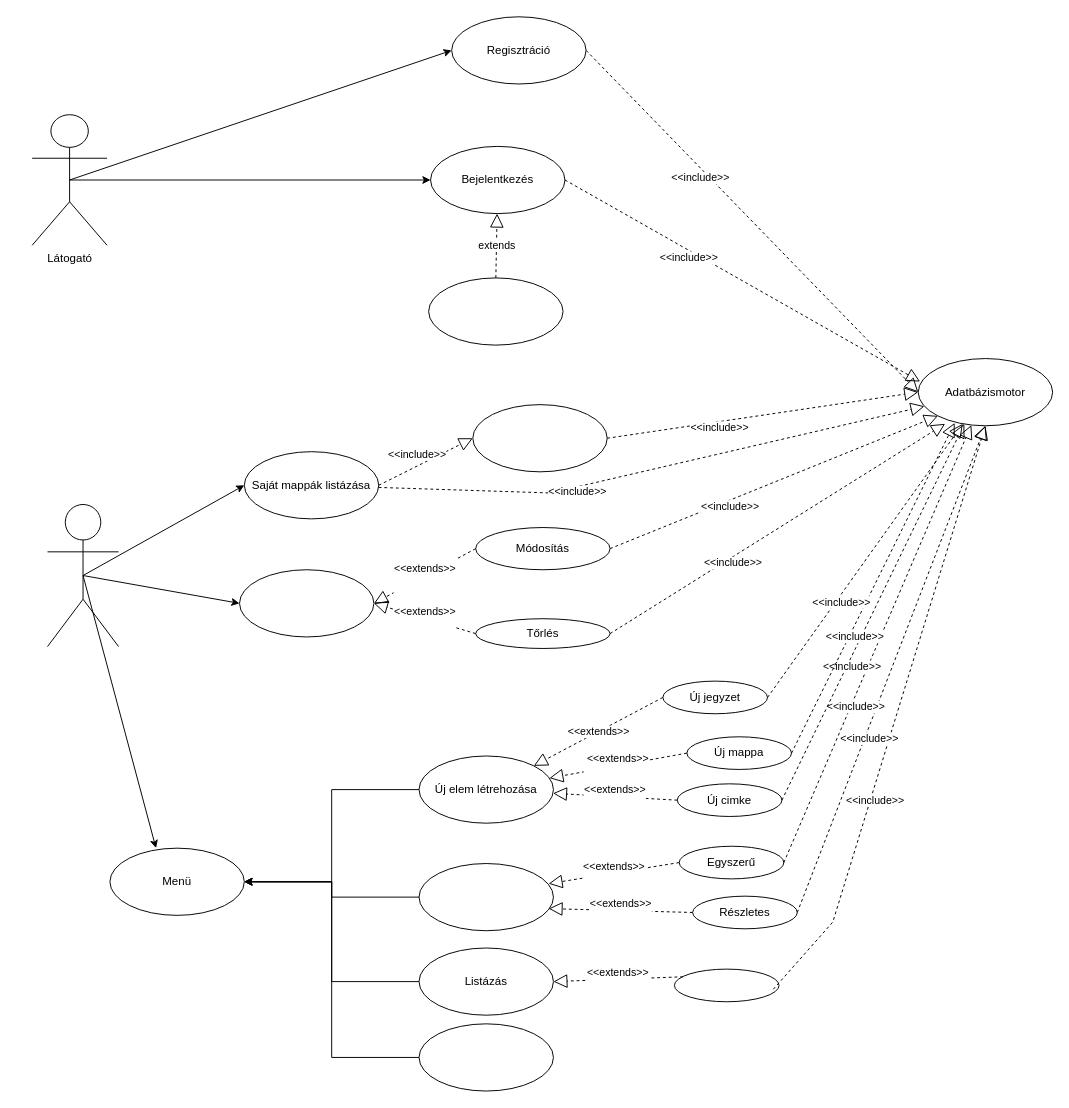
The diagram is 1069 pixels wide and 1108 high, and some of its shapes have lost their labels. The shapes that lost their labels are listed below. From the top down, each one's box as (x1, y1, x2, y2) in pixels, then its label:
(428, 277, 563, 345): Emlékezz rám
(472, 404, 607, 472): Jegyzet megjelenítése
(47, 504, 119, 647): Bejelentkezett felhasználó
(239, 569, 374, 637): Jegyzetre kattintás
(418, 863, 553, 931): Keresés
(673, 968, 779, 1002): Szűrő
(418, 1023, 553, 1091): Kijelentkezés
